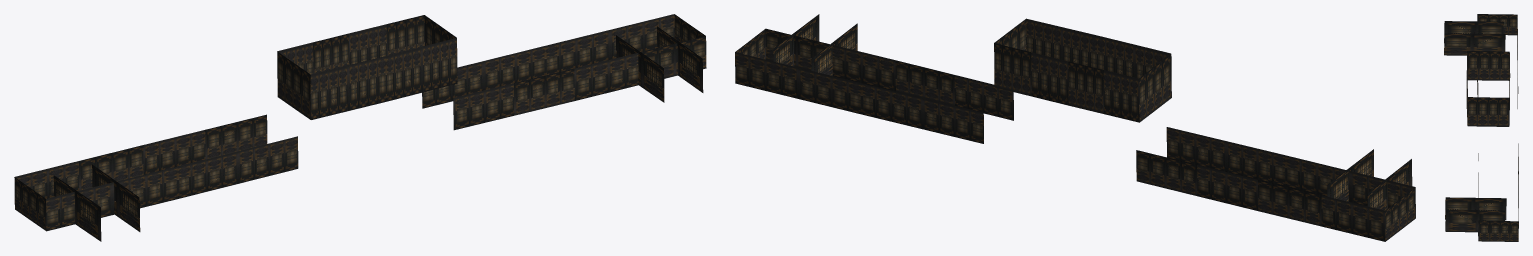
Rendered from jd_fangzi_4.FBX.
The picture shows the model from 3 angles, left to right: view 1: azimuth 30°, elevation 25°; view 2: azimuth 150°, elevation 25°; view 3: azimuth 270°, elevation 25°; orthographic projection. The views are drawn at different scales.
Visible parts, largest first — view 1: jd_fangzi_4; view 2: jd_fangzi_4; view 3: jd_fangzi_4.
Part boxes in pixels (x1,y1,x2,y2): jd_fangzi_4: (14, 14, 706, 241); jd_fangzi_4: (735, 14, 1415, 241); jd_fangzi_4: (1444, 14, 1518, 241).
Bounding box in the file's own units: 2319 × 338 × 354.
